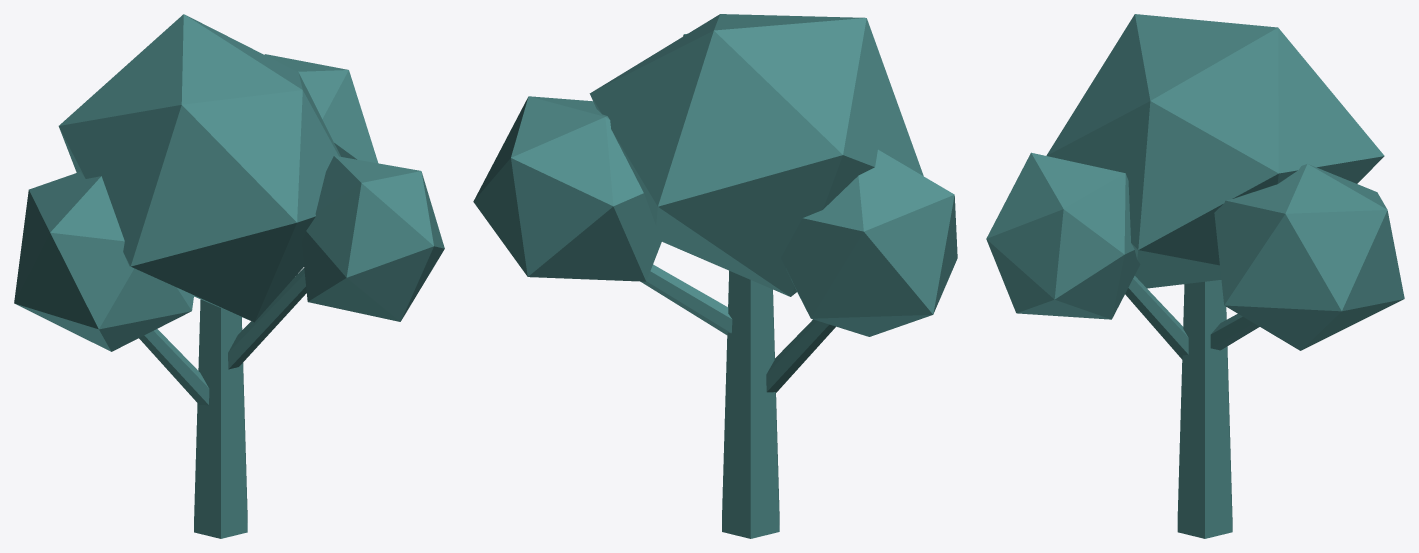
Rendered from Tree 1.fbx.
3 views of the same model, side by side, from view 1: azimuth 30°, elevation 25°; view 2: azimuth 150°, elevation 25°; view 3: azimuth 270°, elevation 25° (orthographic). The views are drawn at different scales.
Visible parts, largest first — view 1: TypicalTrees:sphere_object1, TypicalTrees:sphere_object2, TypicalTrees:sphere_object4, TypicalTrees:pCylinder1, TypicalTrees:sphere_object3, TypicalTrees:pCylinder4, TypicalTrees:pCylinder2; view 2: TypicalTrees:sphere_object1, TypicalTrees:sphere_object3, TypicalTrees:sphere_object2, TypicalTrees:pCylinder1, TypicalTrees:pCylinder3, TypicalTrees:pCylinder2; view 3: TypicalTrees:sphere_object1, TypicalTrees:sphere_object3, TypicalTrees:sphere_object4, TypicalTrees:pCylinder1, TypicalTrees:pCylinder4, TypicalTrees:pCylinder3.
Part boxes in pixels (x1,y1,x2,y2): TypicalTrees:sphere_object1: (58, 14, 340, 322); TypicalTrees:sphere_object2: (14, 171, 193, 351); TypicalTrees:sphere_object4: (301, 155, 444, 321); TypicalTrees:pCylinder1: (194, 299, 247, 538); TypicalTrees:sphere_object3: (264, 54, 377, 163); TypicalTrees:pCylinder4: (228, 268, 306, 369); TypicalTrees:pCylinder2: (139, 329, 209, 405); TypicalTrees:sphere_object1: (589, 14, 923, 296); TypicalTrees:sphere_object3: (473, 96, 664, 281); TypicalTrees:sphere_object2: (781, 149, 957, 336); TypicalTrees:pCylinder1: (722, 270, 779, 538); TypicalTrees:pCylinder3: (641, 264, 732, 335); TypicalTrees:pCylinder2: (766, 319, 835, 393); TypicalTrees:sphere_object1: (1046, 14, 1384, 288); TypicalTrees:sphere_object3: (1214, 164, 1404, 350); TypicalTrees:sphere_object4: (986, 152, 1140, 319); TypicalTrees:pCylinder1: (1177, 280, 1232, 538); TypicalTrees:pCylinder4: (1125, 276, 1188, 359); TypicalTrees:pCylinder3: (1210, 314, 1259, 350).
Size of the model in its own units: 19.84 by 24.29 by 18.53.
